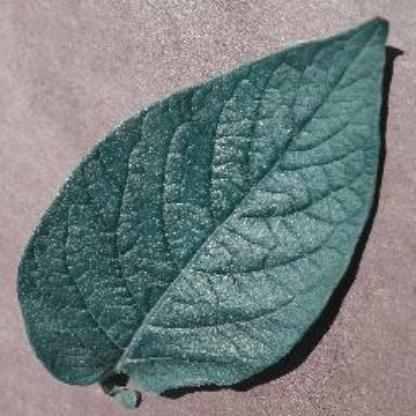Healthy-plant: (13, 13, 403, 408)
